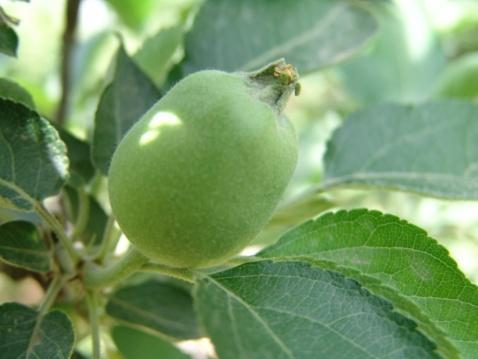apple: (113, 63, 303, 268)
